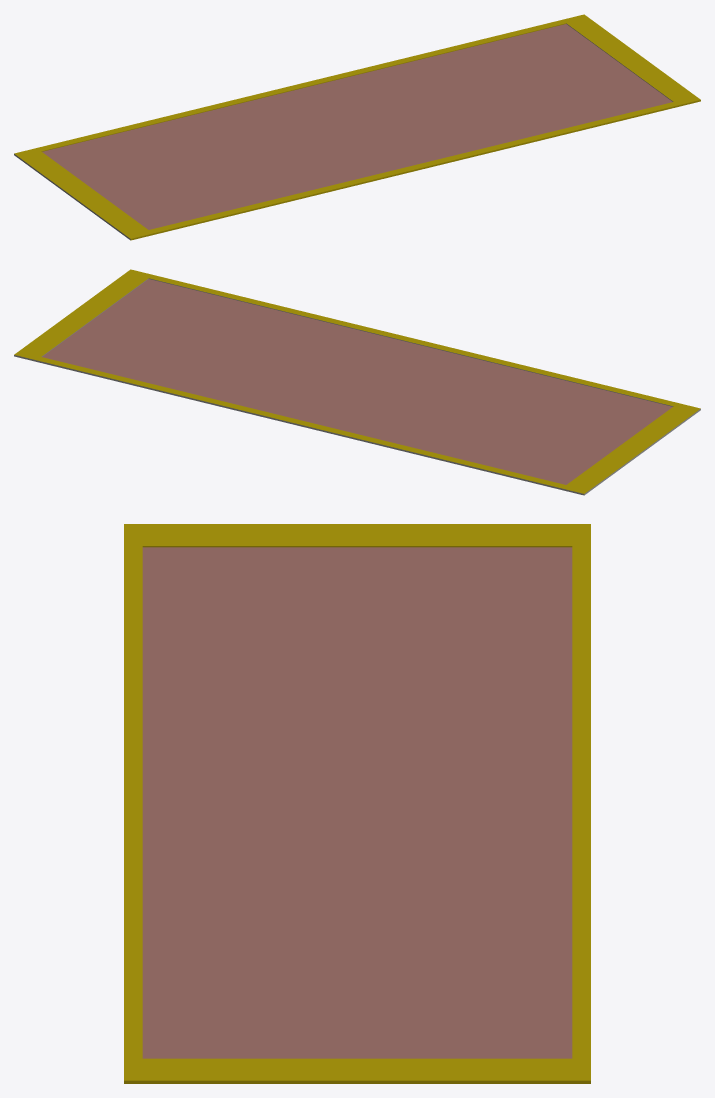
Rendered from Square Frame_2.fbx.
3 views of the same model, one above another, from view 1: azimuth 30°, elevation 25°; view 2: azimuth 150°, elevation 25°; view 3: azimuth 270°, elevation 25° (orthographic). The views are drawn at different scales.
Parts seen in each view (by area): view 1: Square_Frame_2; view 2: Square_Frame_2; view 3: Square_Frame_2.
Part boxes in pixels (x1,y1,x2,y2): Square_Frame_2: [14, 14, 700, 240]; Square_Frame_2: [14, 269, 700, 495]; Square_Frame_2: [124, 524, 590, 1083].
Size of the model in its own units: 15.69 by 0.043 by 5.56.
